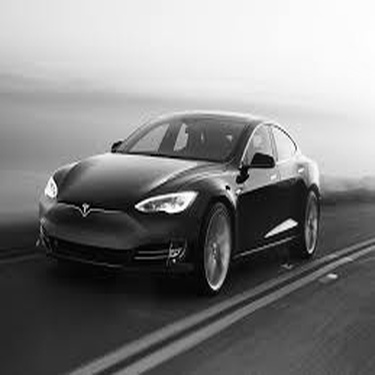car: (17, 108, 334, 289)
